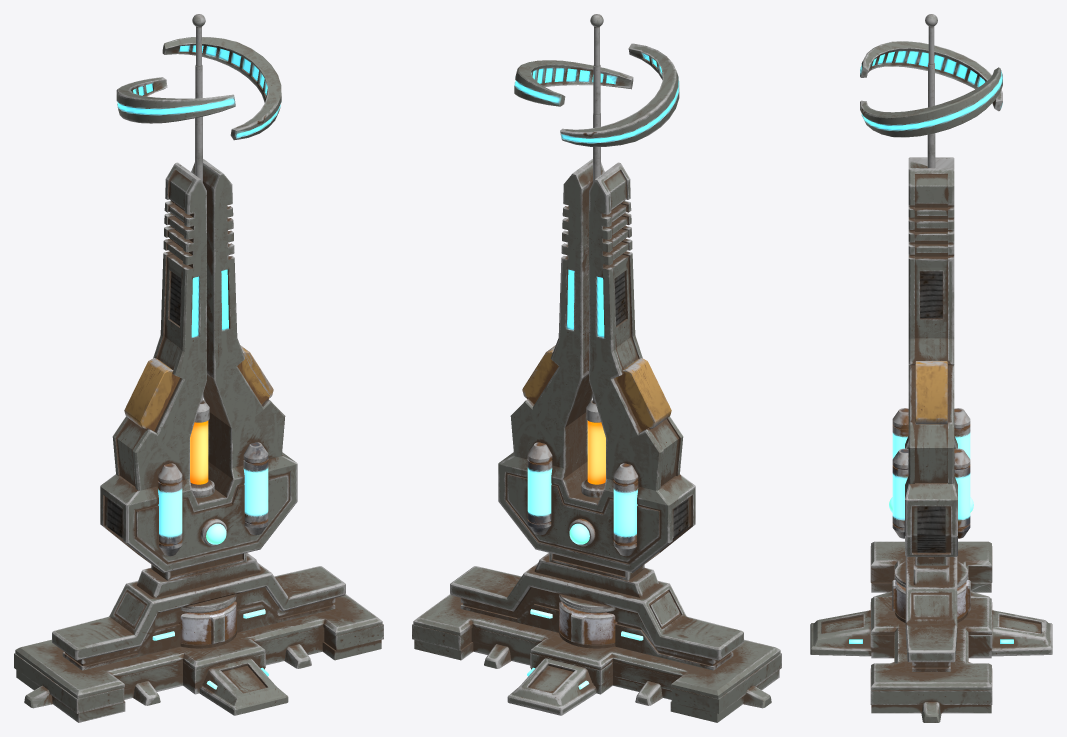
File: antenna.fbx
The picture shows the model from 3 angles, left to right: view 1: azimuth 30°, elevation 25°; view 2: azimuth 150°, elevation 25°; view 3: azimuth 270°, elevation 25°; orthographic projection. The views are drawn at different scales.
Parts seen in each view (by area): view 1: Cube.007, Cube, Cube.003, Sphere.002, Cube.008, Cube.001, Cylinder, Cylinder.002, Cylinder.003, Circle, Cube.002, Circle.001 (+1 smaller); view 2: Cube.007, Cube, Cube.003, Sphere.002, Cube.008, Cube.001, Cylinder, Cylinder.002, Cylinder.003, Circle, Cube.002, Circle.001 (+1 smaller); view 3: Cube.007, Cube, Sphere.002, Cube.003, Cube.001, Cylinder.002, Cube.008, Cylinder.003, Cylinder, Circle, Cube.002.
Boxes of the visible parts, x1,y1,x2,y2 form: Cube.007: [100, 159, 297, 572]; Cube: [14, 594, 383, 722]; Cube.003: [52, 553, 345, 670]; Sphere.002: [116, 37, 281, 140]; Cube.008: [124, 345, 273, 430]; Cube.001: [199, 658, 288, 715]; Cylinder: [178, 594, 236, 648]; Cylinder.002: [157, 442, 268, 556]; Cylinder.003: [158, 468, 268, 536]; Circle: [190, 26, 214, 497]; Cube.002: [24, 644, 311, 708]; Circle.001: [190, 420, 208, 484]; Cube.007: [498, 159, 695, 572]; Cube: [412, 594, 781, 722]; Cube.003: [450, 553, 743, 670]; Sphere.002: [514, 43, 679, 146]; Cube.008: [522, 345, 671, 430]; Cube.001: [507, 658, 596, 715]; Cylinder: [559, 594, 617, 648]; Cylinder.002: [527, 442, 638, 556]; Cylinder.003: [527, 468, 637, 536]; Circle: [581, 26, 605, 497]; Cube.002: [484, 644, 771, 708]; Circle.001: [587, 420, 605, 484]; Cube.007: [905, 157, 957, 556]; Cube: [870, 541, 992, 713]; Sphere.002: [860, 41, 1002, 137]; Cube.003: [905, 556, 957, 671]; Cube.001: [810, 610, 1052, 656]; Cylinder.002: [892, 408, 970, 538]; Cube.008: [915, 361, 947, 424]; Cylinder.003: [892, 433, 970, 519]; Cylinder: [892, 561, 970, 622]; Circle: [927, 26, 935, 167]; Cube.002: [873, 591, 989, 722].
Bounding box in the file's own units: 1041 × 1886 × 659.
Materials: 1 (1 with a texture image).
